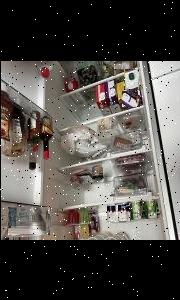Leche: (103, 80, 121, 111), (93, 85, 110, 114), (124, 68, 138, 88), (122, 90, 138, 106)
Lechuga/Endivia: (99, 60, 114, 75)
Mantequilla: (8, 206, 48, 234)
Pan de sandwich: (114, 60, 135, 68)
Yogur: (115, 202, 130, 220), (142, 199, 156, 218), (128, 200, 142, 219), (116, 226, 134, 240), (107, 204, 118, 221)
